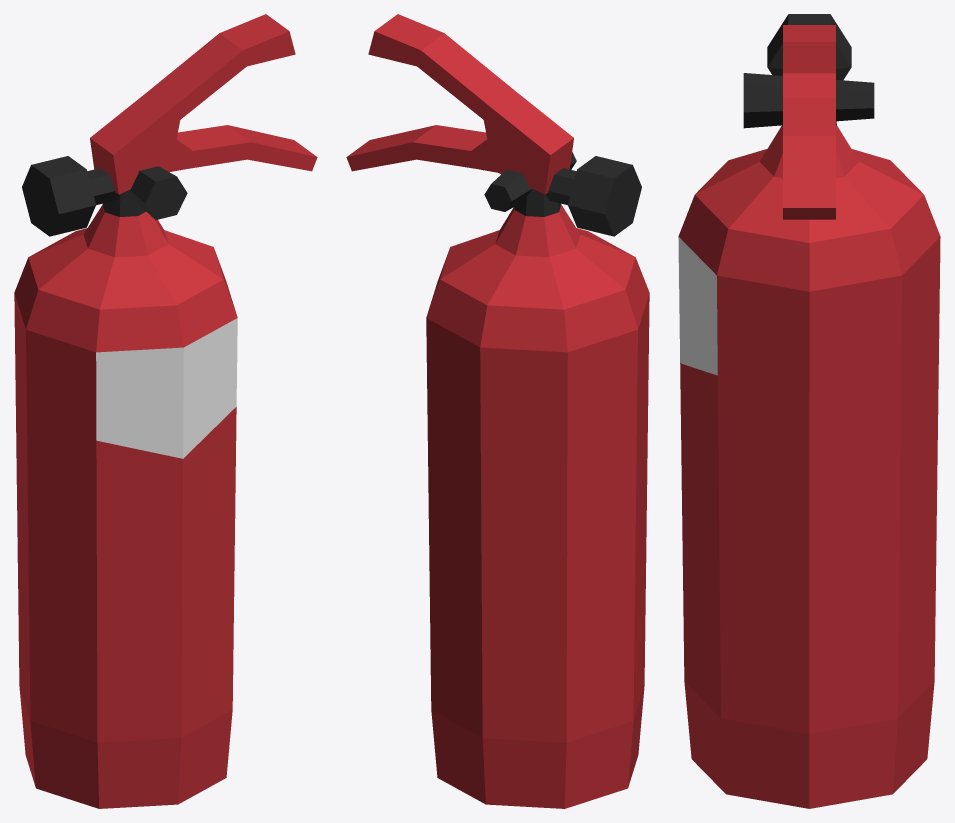
File: fire-extinguisher.glb
3 renders of one model, left to right at view 1: azimuth 30°, elevation 25°; view 2: azimuth 150°, elevation 25°; view 3: azimuth 270°, elevation 25°, orthographic. The views are drawn at different scales.
Parts seen in each view (by area): view 1: fire-extinguisher; view 2: fire-extinguisher; view 3: fire-extinguisher.
Part boxes in pixels (bbox=[...]): fire-extinguisher: bbox=[14, 14, 317, 808]; fire-extinguisher: bbox=[346, 14, 649, 808]; fire-extinguisher: bbox=[678, 14, 940, 808].
Bounding box in the file's own units: 0.2233 × 0.5481 × 0.1598.
Materials: 1 (1 with a texture image).
